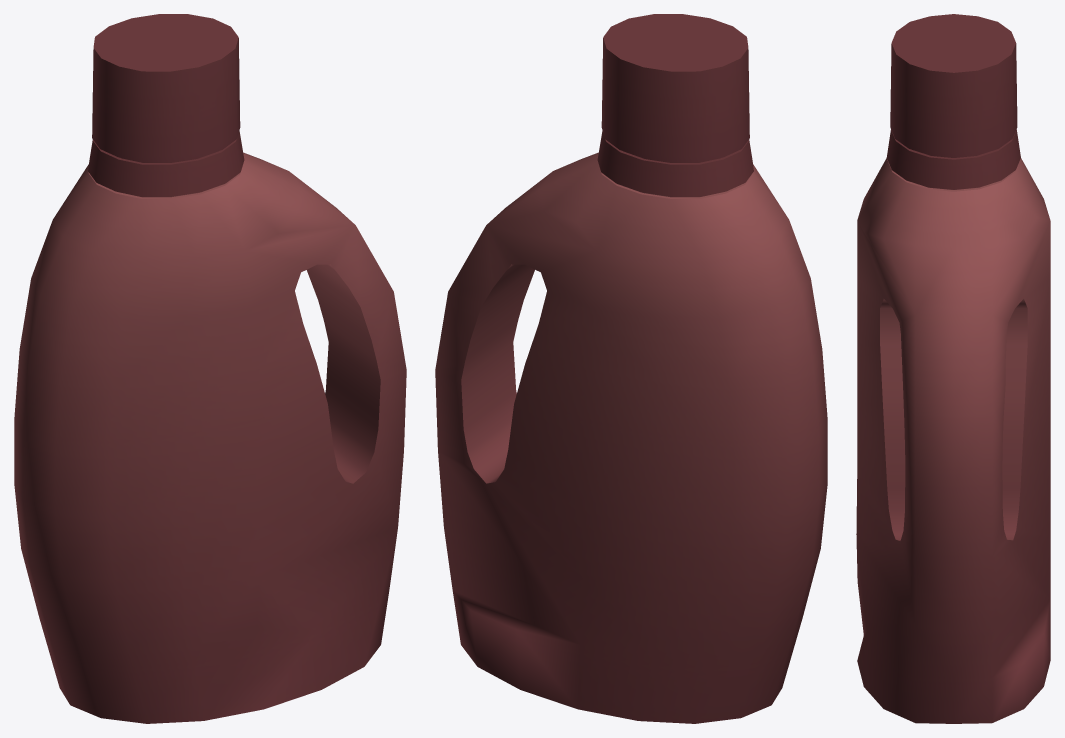
File: detergent_red.fbx
3 views of the same model, side by side, from view 1: azimuth 30°, elevation 25°; view 2: azimuth 150°, elevation 25°; view 3: azimuth 270°, elevation 25° (orthographic). The views are drawn at different scales.
Visible parts, largest first — view 1: detergent_red; view 2: detergent_red; view 3: detergent_red.
Part boxes in pixels (box(x1,y1,x2,y2)): detergent_red: box(14, 14, 406, 723); detergent_red: box(435, 14, 827, 723); detergent_red: box(856, 14, 1050, 723).
Size of the model in its own units: 218 by 363 by 107.
